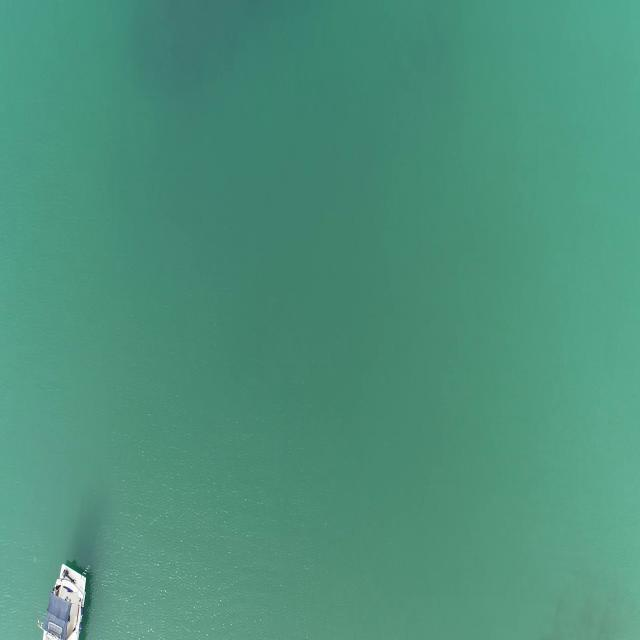boat: (36, 561, 94, 640)
